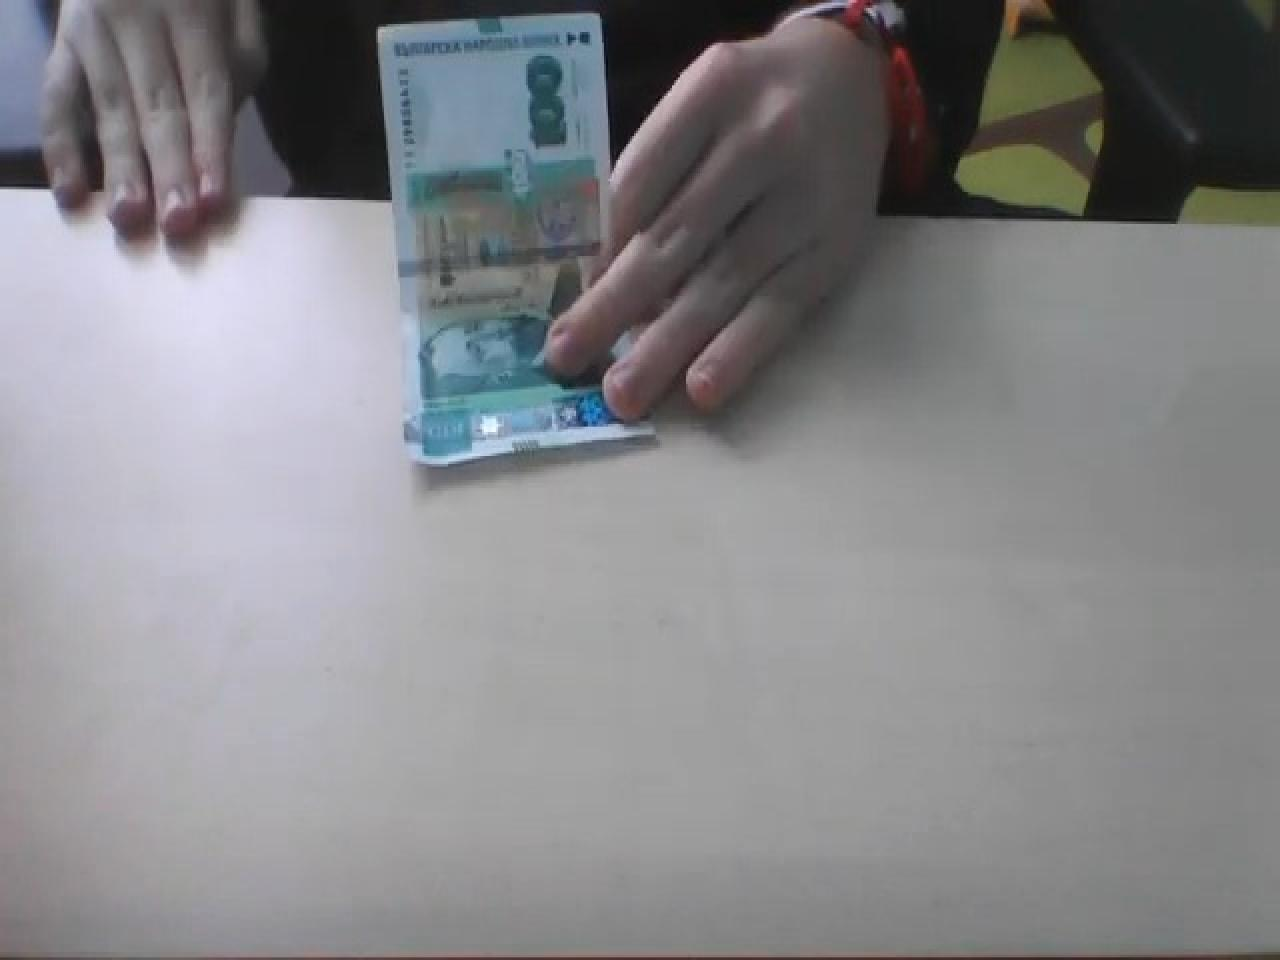100leva: (374, 13, 656, 467)
